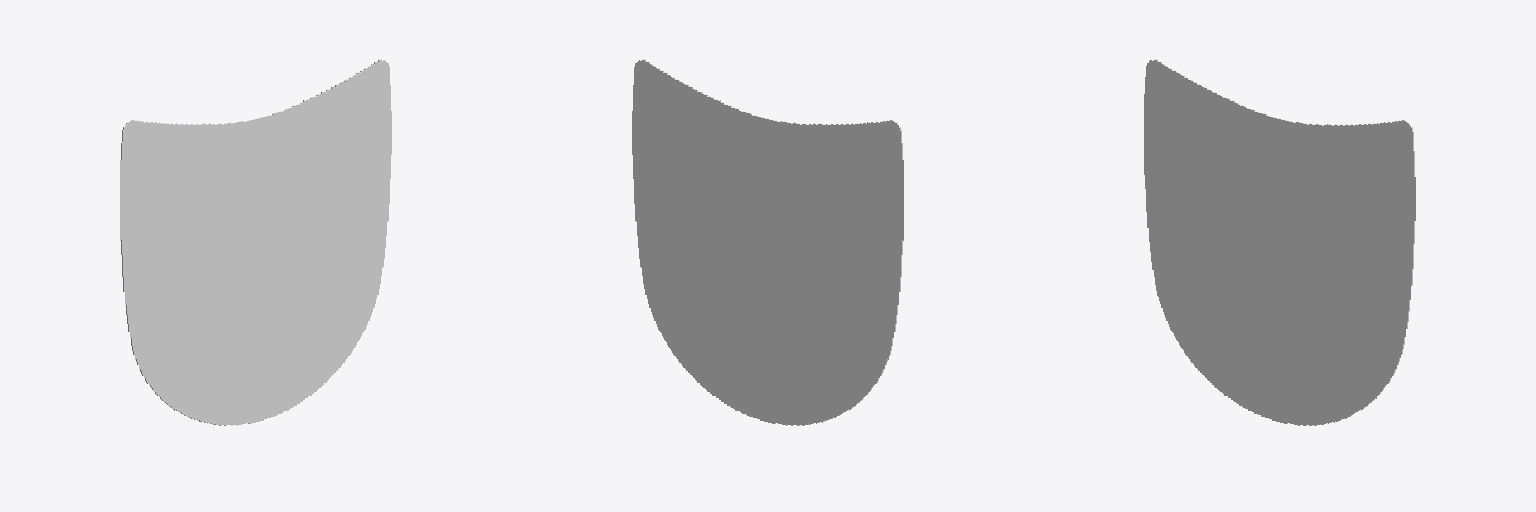
The model's file is MaskGuyEvil.obj.
3 renders of one model, left to right at view 1: azimuth 30°, elevation 25°; view 2: azimuth 150°, elevation 25°; view 3: azimuth 330°, elevation 25°, orthographic.
Visible parts, largest first — view 1: object 1; view 2: object 1; view 3: object 1.
Boxes of the visible parts, x1,y1,x2,y2 form: object 1: [120, 59, 391, 425]; object 1: [632, 59, 903, 425]; object 1: [1144, 59, 1415, 425].
Bounding box in the file's own units: 21.6 × 25.2 × 0.1.